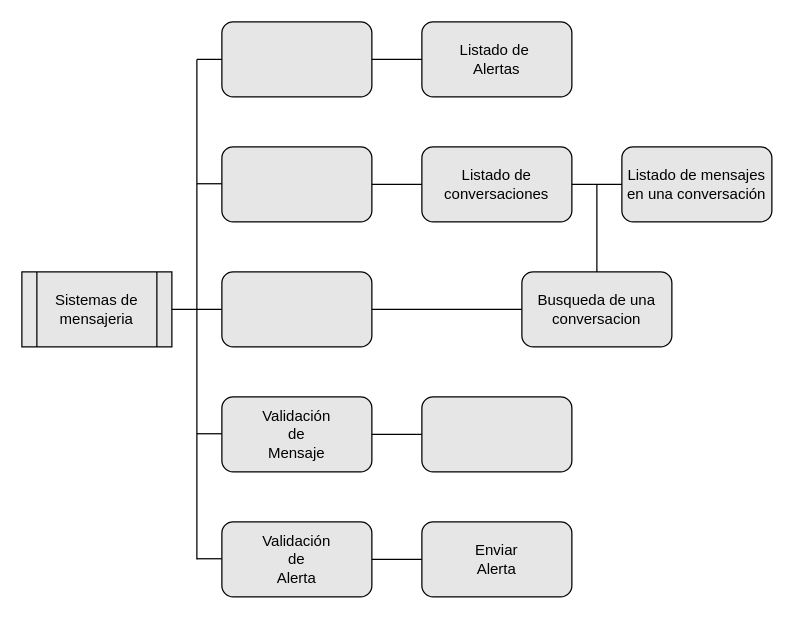
This 794x619 diagram has some shape labels left out. The shapes that lost their labels are listed below. From the top down, each one's centre as x and y in pixels, then its label:
At [296,59]: "Extraer Alertas del middleware".
At [296,184]: "Extraer Mensajes del middleware".
At [296,309]: "Validación del parametro de Busqueda".
At [496,434]: "Enviar Mensaje".
